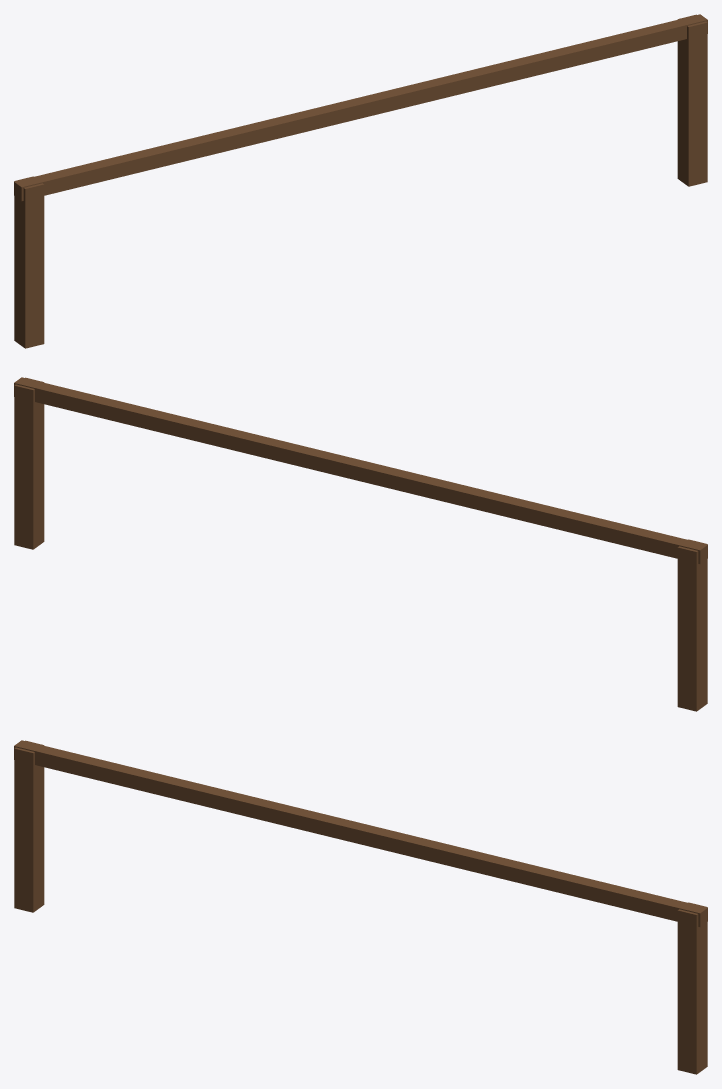
The model's file is gate.glb.
The picture shows the model from 3 angles, top to bottom: view 1: azimuth 30°, elevation 25°; view 2: azimuth 150°, elevation 25°; view 3: azimuth 330°, elevation 25°; orthographic projection.
Visible parts, largest first — view 1: arch; view 2: arch; view 3: arch.
Boxes of the visible parts, left/top/right/bottom form: arch: left=14, top=14, right=707, bottom=348; arch: left=14, top=377, right=707, bottom=711; arch: left=14, top=740, right=707, bottom=1074.
Bounding box in the file's own units: 18 × 4.03 × 0.5.
